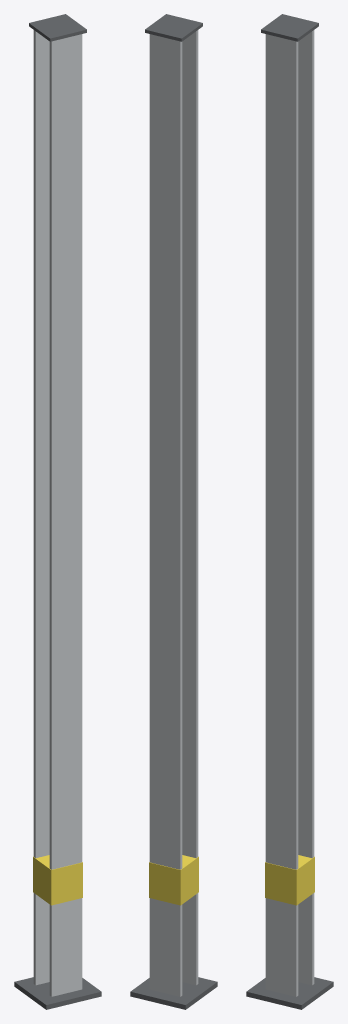
Rendered from steel-hall-column-6-m.glb.
3 renders of one model, left to right at view 1: azimuth 30°, elevation 25°; view 2: azimuth 150°, elevation 25°; view 3: azimuth 330°, elevation 25°, orthographic.
Visible parts, largest first — view 1: machine-shop-and-factory-hall-hall-column; view 2: machine-shop-and-factory-hall-hall-column; view 3: machine-shop-and-factory-hall-hall-column.
Boxes of the visible parts, x1,y1,x2,y2 form: machine-shop-and-factory-hall-hall-column: [14, 14, 101, 1009]; machine-shop-and-factory-hall-hall-column: [130, 14, 217, 1009]; machine-shop-and-factory-hall-hall-column: [246, 14, 333, 1009].
Bounding box in the file's own units: 0.3596 × 6 × 0.3596.
